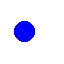circle: (14, 21, 34, 41)
